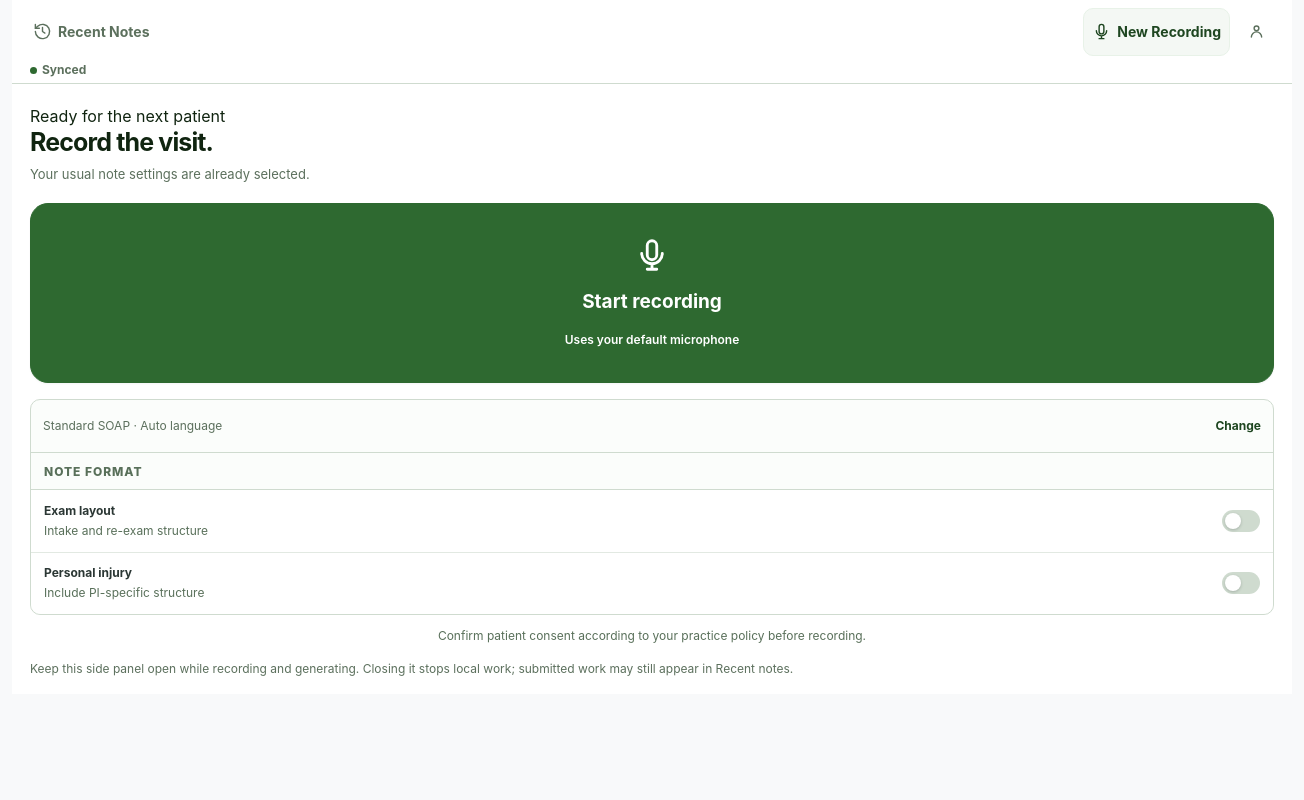
side-panel review and account safety › search reveals collapsed weeks and clearing preserves their original state
Click the button "Recent Notes" at (91, 32), box x1=24 y1=8 x2=158 y2=56
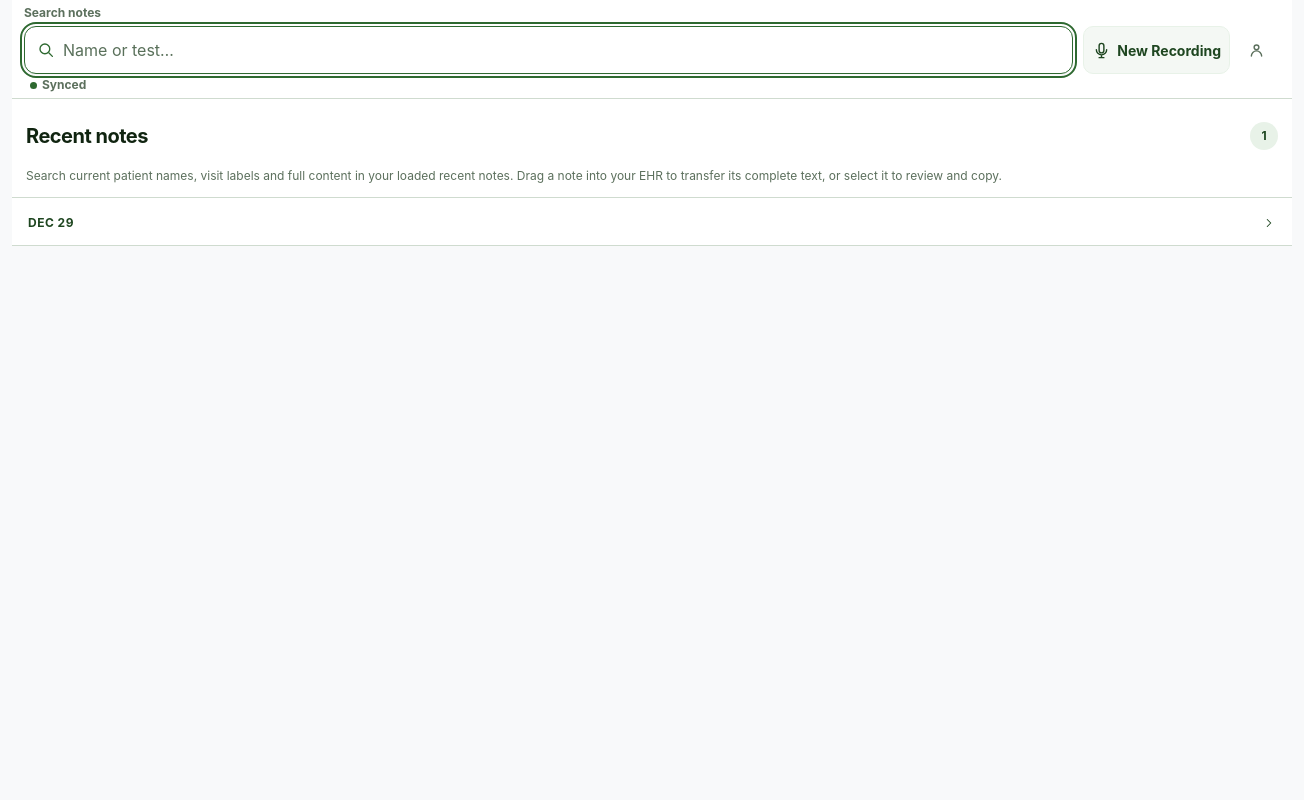
Type "lachman" into the search field labelled "Search notes" at (568, 50), box x1=63 y1=27 x2=1072 y2=73
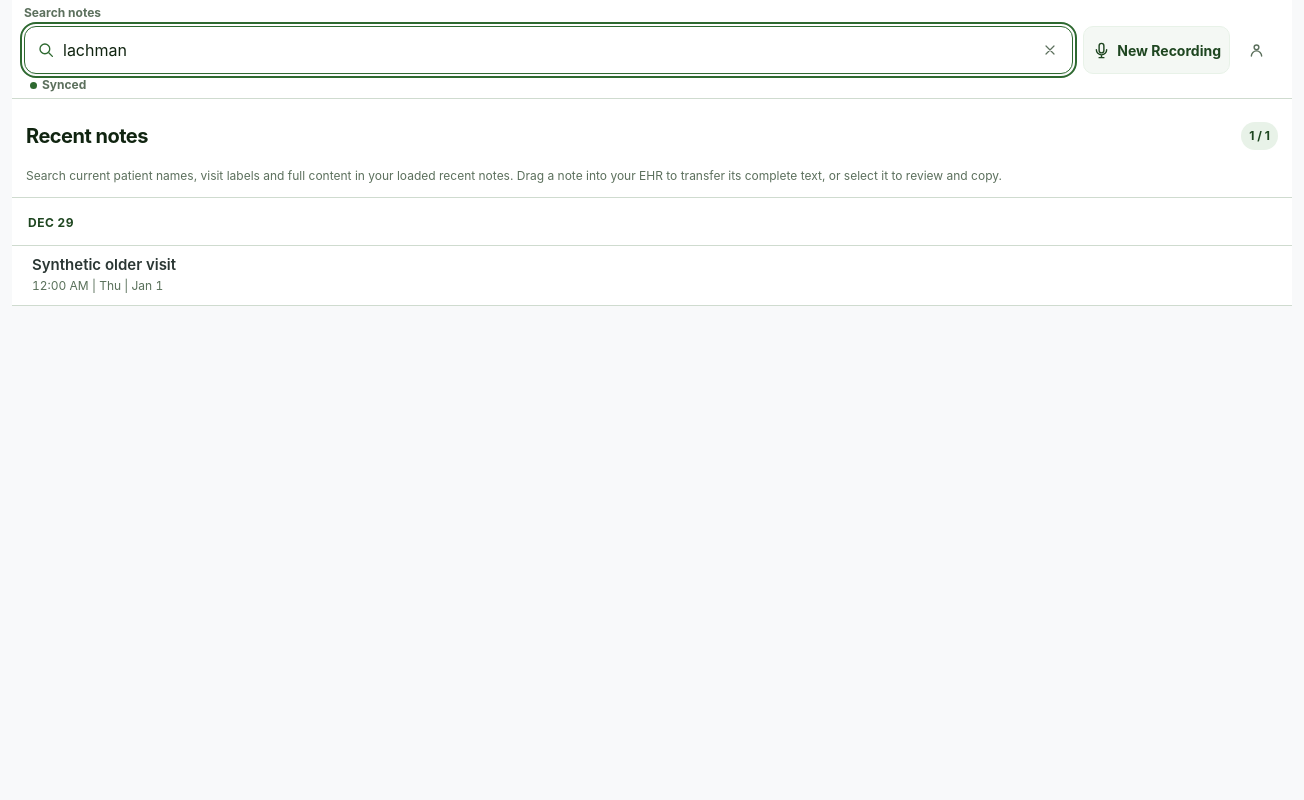
Expected: the number of buttons with class "history-item" is 1, x1=12 y1=246 x2=1292 y2=306
Press Escape in the search field labelled "Search notes", box x1=63 y1=27 x2=1020 y2=73
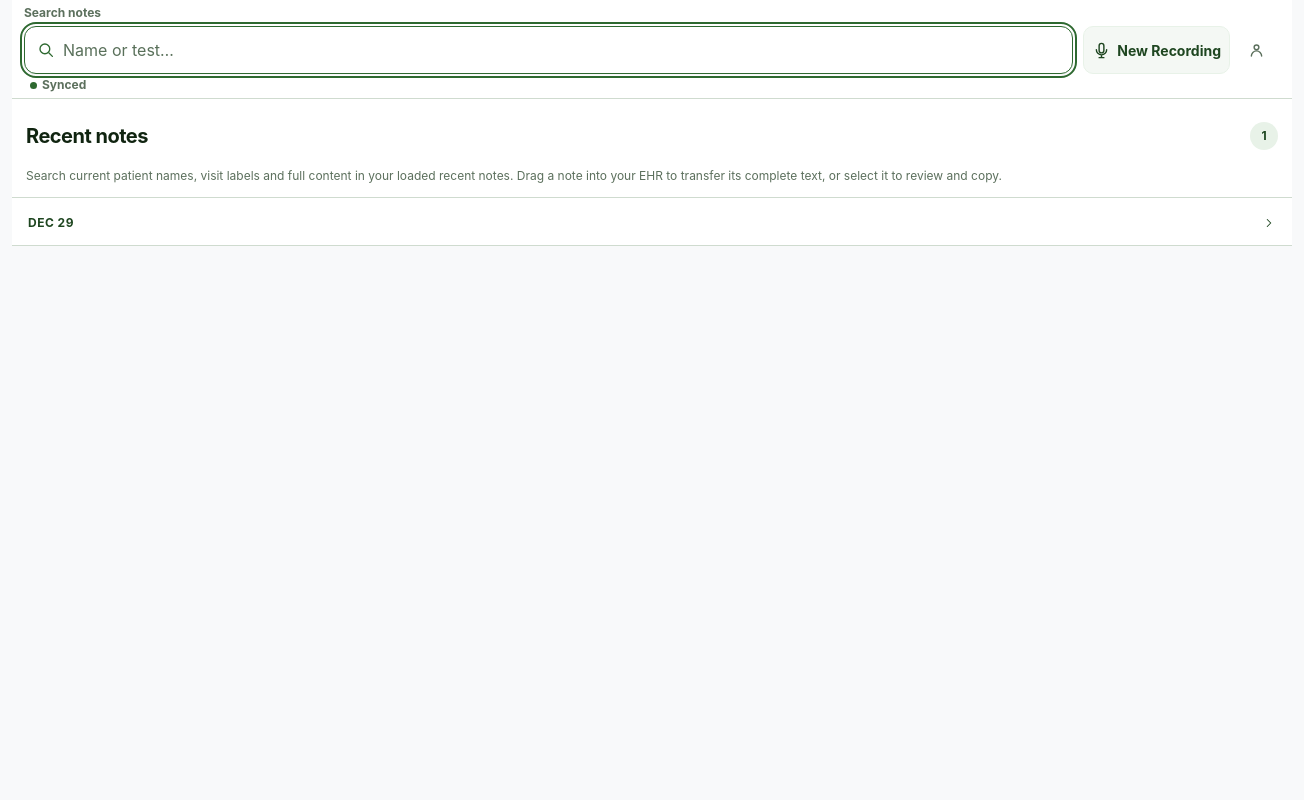
Expected: the search field labelled "Search notes" is empty, x1=63 y1=27 x2=1072 y2=73
Expected: no buttons with class "history-item" are shown
